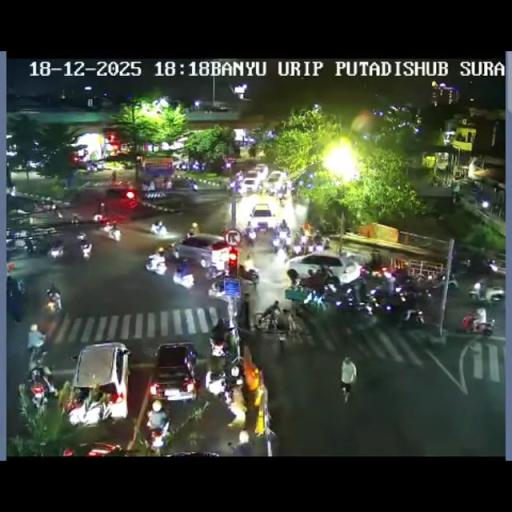Car: (67, 341, 131, 422), (148, 342, 200, 403), (286, 252, 362, 285), (174, 234, 233, 271), (248, 203, 277, 230), (105, 186, 139, 208), (76, 441, 122, 456), (242, 176, 262, 194), (266, 170, 286, 184), (252, 164, 269, 178), (170, 156, 182, 169)
Motorcycle: (28, 220, 120, 262), (26, 352, 58, 409), (320, 282, 370, 316), (146, 403, 170, 452), (209, 319, 233, 355), (394, 276, 426, 300), (254, 306, 283, 332), (460, 313, 494, 335), (300, 288, 327, 314), (222, 361, 244, 392), (207, 276, 234, 300), (370, 280, 398, 302), (279, 307, 301, 334), (26, 324, 46, 353), (230, 431, 254, 455), (204, 369, 225, 396), (172, 264, 194, 289), (145, 252, 167, 276), (400, 308, 424, 329), (466, 284, 490, 303), (44, 288, 62, 313), (370, 264, 396, 280), (270, 232, 288, 254), (437, 274, 459, 292), (204, 261, 222, 281), (49, 239, 65, 260), (78, 238, 93, 260), (226, 177, 244, 194), (484, 257, 502, 274), (340, 381, 353, 403), (6, 275, 18, 298), (245, 267, 259, 286), (151, 223, 170, 237), (286, 268, 300, 286), (359, 262, 374, 278), (13, 233, 27, 250), (108, 223, 121, 241), (370, 248, 382, 267), (323, 274, 339, 288), (245, 226, 257, 244), (276, 334, 286, 355), (318, 263, 332, 278), (458, 258, 472, 272), (33, 201, 49, 213), (25, 237, 36, 254), (96, 202, 106, 220), (319, 236, 331, 251), (243, 252, 253, 270), (170, 243, 180, 260), (50, 204, 62, 218), (292, 240, 303, 255), (16, 278, 26, 294), (84, 161, 98, 172), (299, 232, 308, 246), (266, 185, 276, 197), (76, 230, 86, 242), (156, 246, 166, 258), (279, 219, 288, 232), (70, 214, 80, 225), (95, 160, 106, 170), (278, 195, 286, 208), (191, 161, 201, 171), (292, 184, 298, 199), (284, 181, 290, 195), (190, 181, 198, 191), (111, 170, 117, 182), (186, 230, 194, 238), (166, 178, 172, 188)
